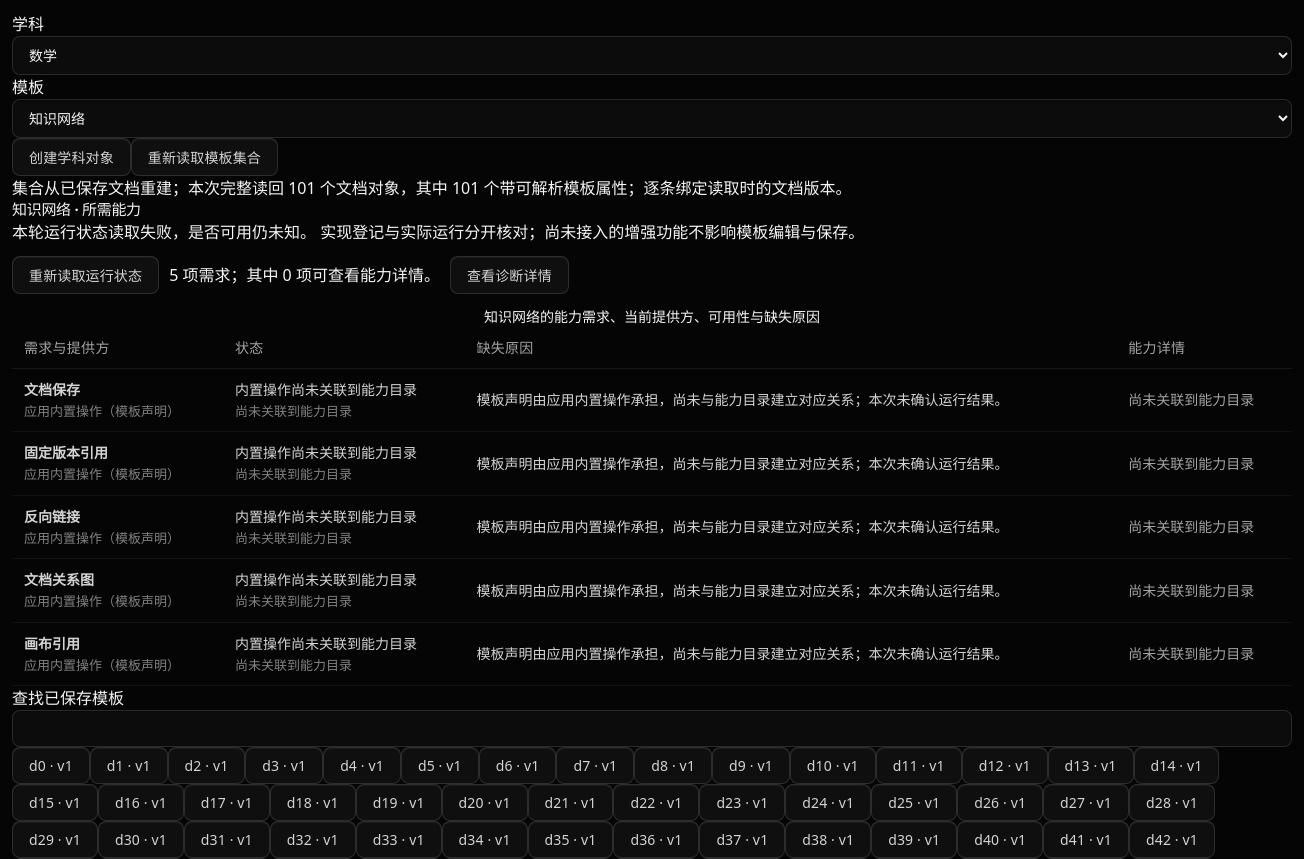
it: complete template document membership › filters a long list without changing complete collection or cross-page backlinks
The image size is (1304, 859).
In the search field labelled "查找已保存模板": (652, 728) left=12, top=710, right=1292, bottom=747, type "d0"
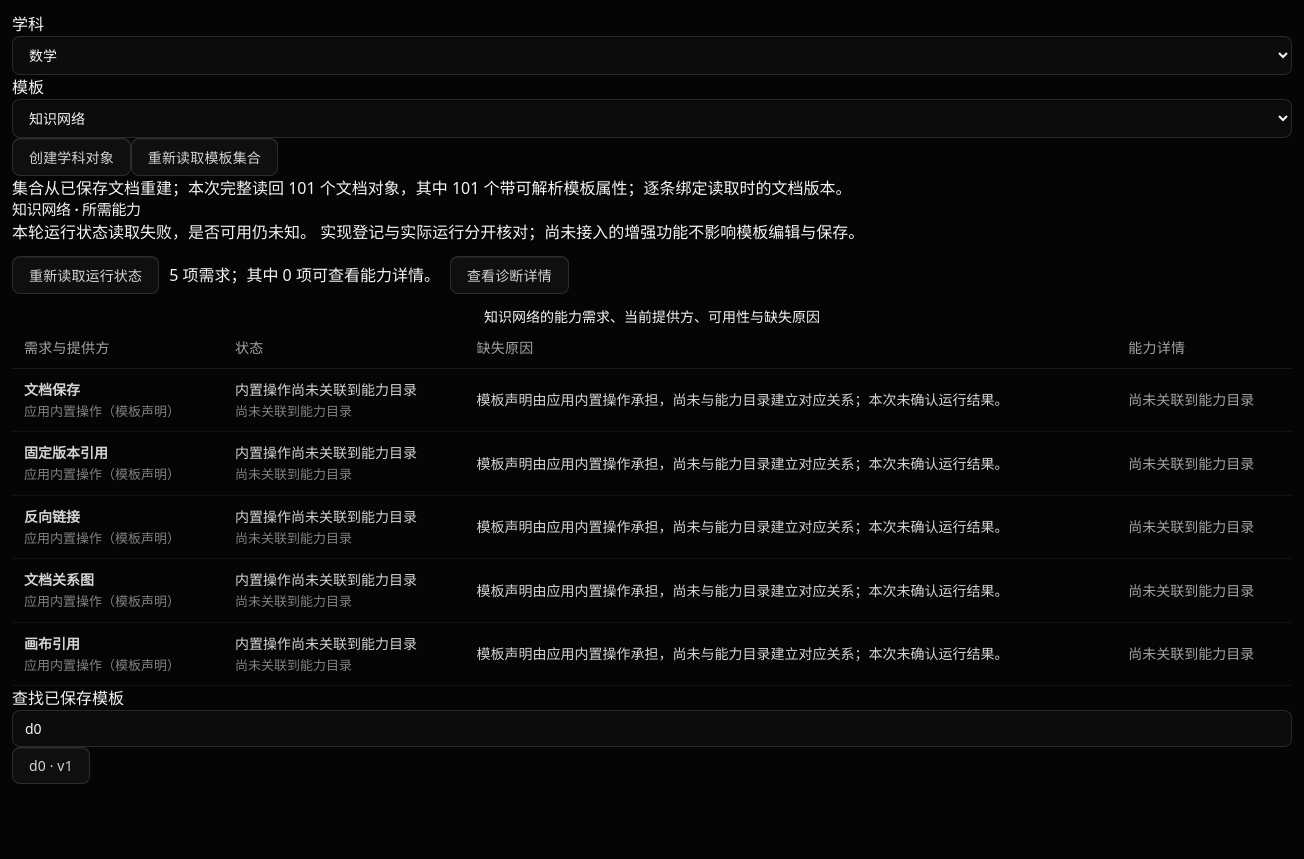
Click the button "d0 · v1": (51, 766) left=12, top=747, right=90, bottom=784
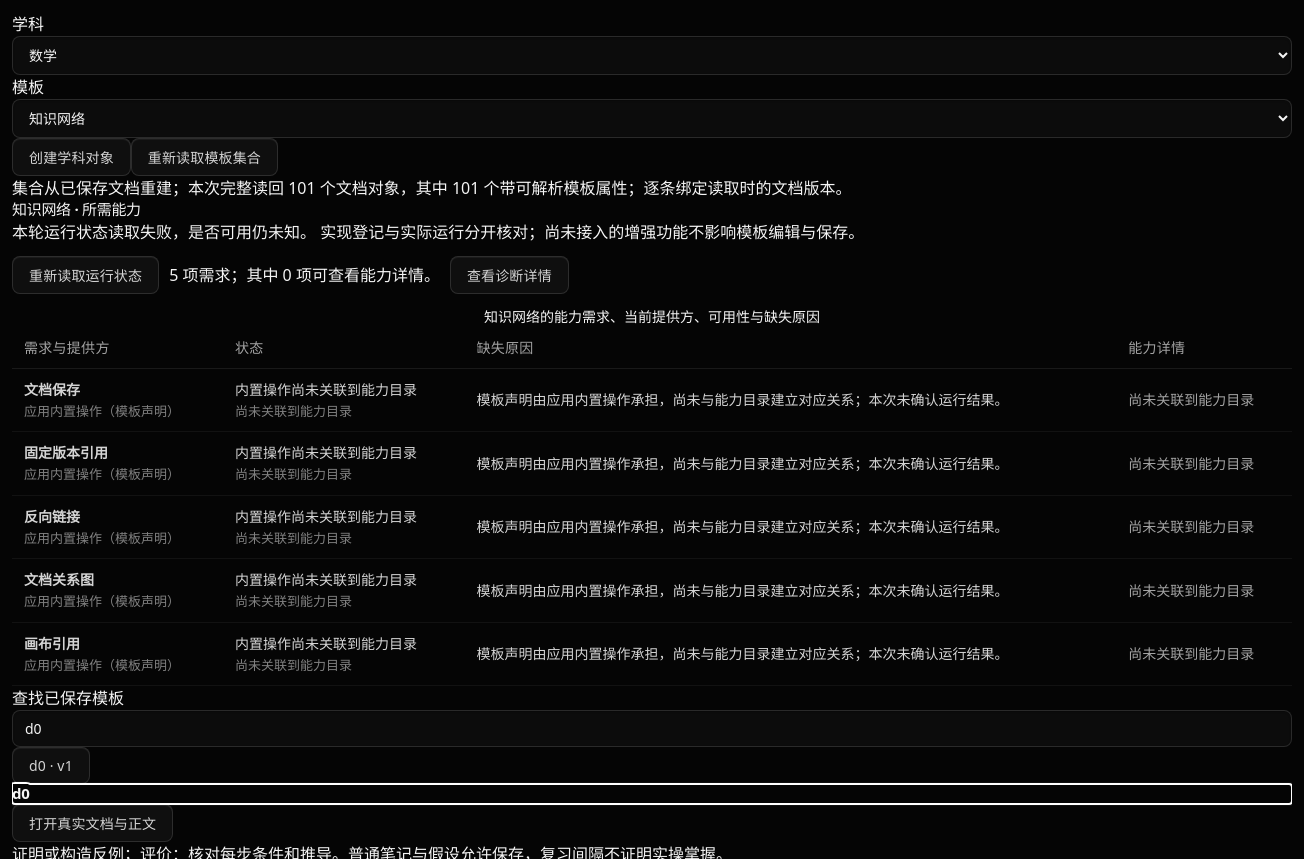
Replace the text in the search field labelled "查找已保存模板" with "missing-title": (652, 728) left=12, top=710, right=1292, bottom=747
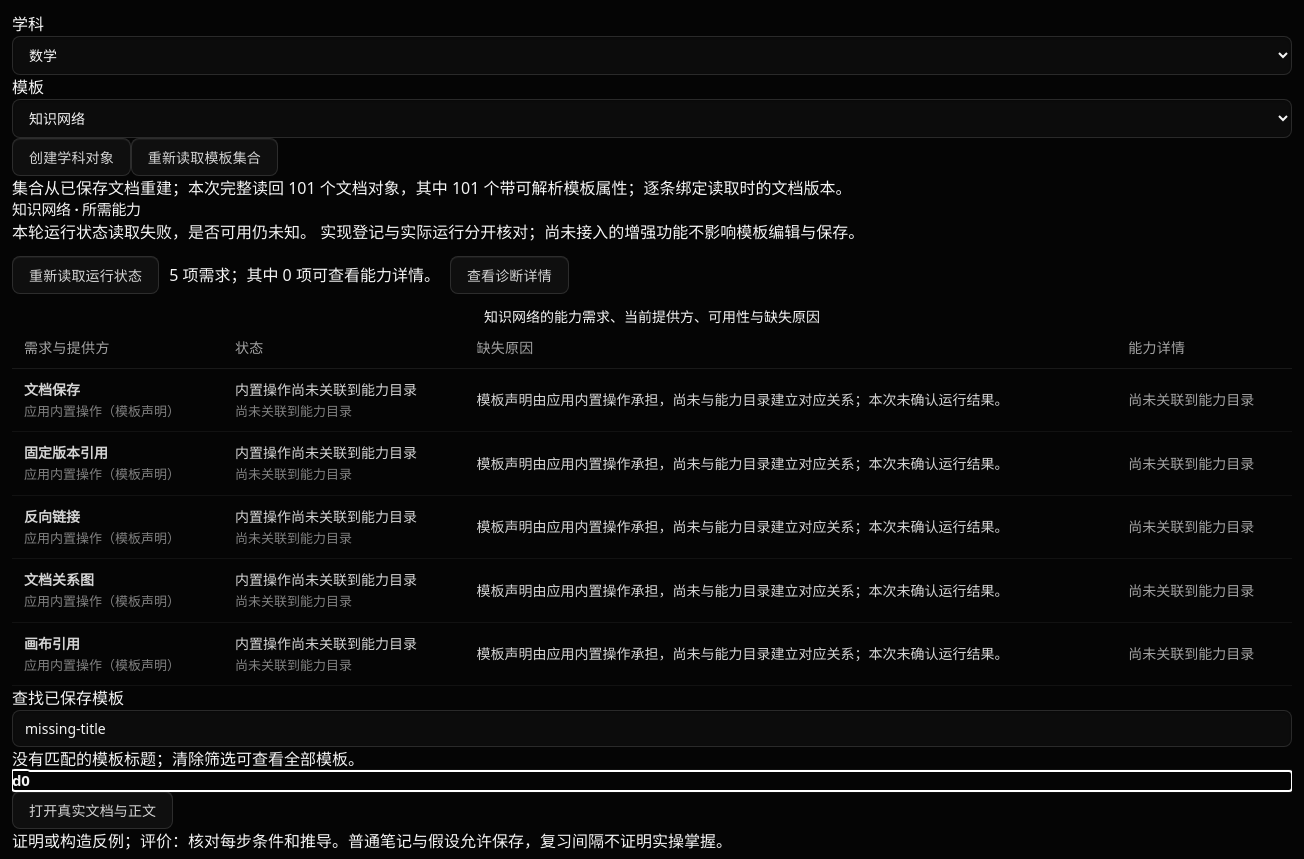
Expected: the text "集合从已保存文档重建；本次完整读回 101 个文档对象，其中 101 个带可解析模板属性；逐条绑定读取时的文档版本。" is shown, left=12, top=177, right=852, bottom=199
Expected: the text "没有匹配的模板标题；清除筛选可查看全部模板。" is shown, left=12, top=748, right=364, bottom=770
